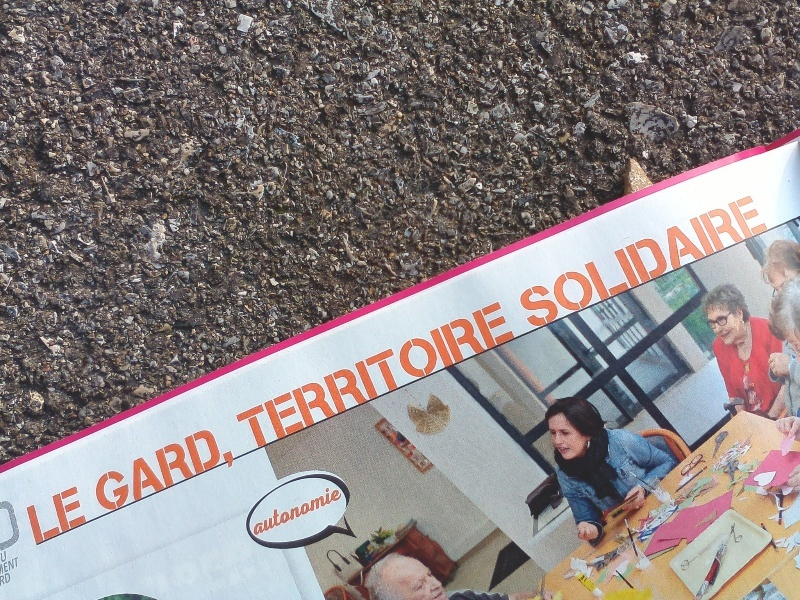text: (241, 299, 256, 453), (257, 299, 272, 453), (273, 299, 288, 453), (289, 299, 304, 453), (305, 299, 320, 453), (321, 299, 336, 453), (337, 299, 352, 453), (353, 299, 368, 453), (369, 299, 384, 453), (385, 299, 400, 453), (401, 299, 416, 453), (417, 299, 432, 453), (433, 299, 448, 453), (449, 299, 464, 453), (465, 299, 480, 453), (481, 299, 496, 453), (497, 299, 512, 453), (529, 193, 544, 331), (545, 193, 560, 331), (561, 193, 576, 331), (577, 193, 592, 331), (593, 193, 608, 331), (609, 193, 624, 331), (625, 193, 640, 331), (641, 193, 656, 331), (657, 193, 672, 331), (673, 193, 688, 331), (689, 193, 704, 331), (705, 193, 720, 331), (721, 193, 736, 331), (737, 193, 752, 331), (753, 193, 768, 331), (514, 193, 528, 331), (97, 422, 112, 522), (113, 422, 128, 522), (129, 422, 144, 522), (145, 422, 160, 522), (161, 422, 176, 522), (177, 422, 192, 522), (193, 422, 208, 522), (209, 422, 224, 522), (225, 422, 237, 522), (233, 299, 240, 453), (33, 481, 48, 547), (49, 481, 64, 547), (65, 481, 80, 547), (513, 299, 519, 453), (257, 481, 272, 537), (273, 481, 288, 537), (289, 481, 304, 537), (305, 481, 320, 537), (321, 481, 336, 537), (88, 422, 96, 522), (81, 481, 92, 547), (22, 481, 32, 547), (337, 481, 344, 537), (3, 556, 16, 575), (1, 572, 16, 587), (252, 481, 256, 537), (2, 550, 16, 564), (769, 193, 770, 331), (17, 556, 21, 575), (584, 573, 592, 582)
